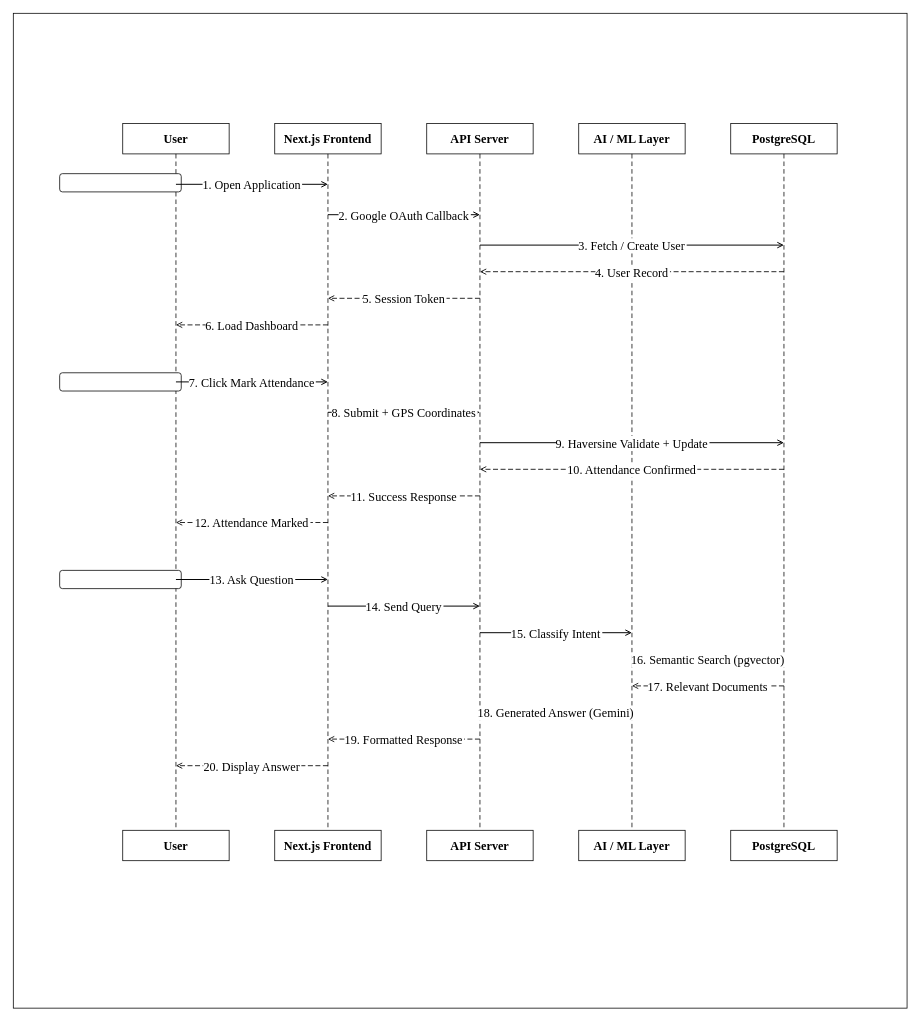
Image size: 920x1021. Some labels were removed from this diagram. Each missing label, with the box of its shape:
Authentication: (59, 173, 181, 192)
Mark Attendance: (59, 372, 181, 391)
Query AgriSage: (59, 570, 181, 589)
